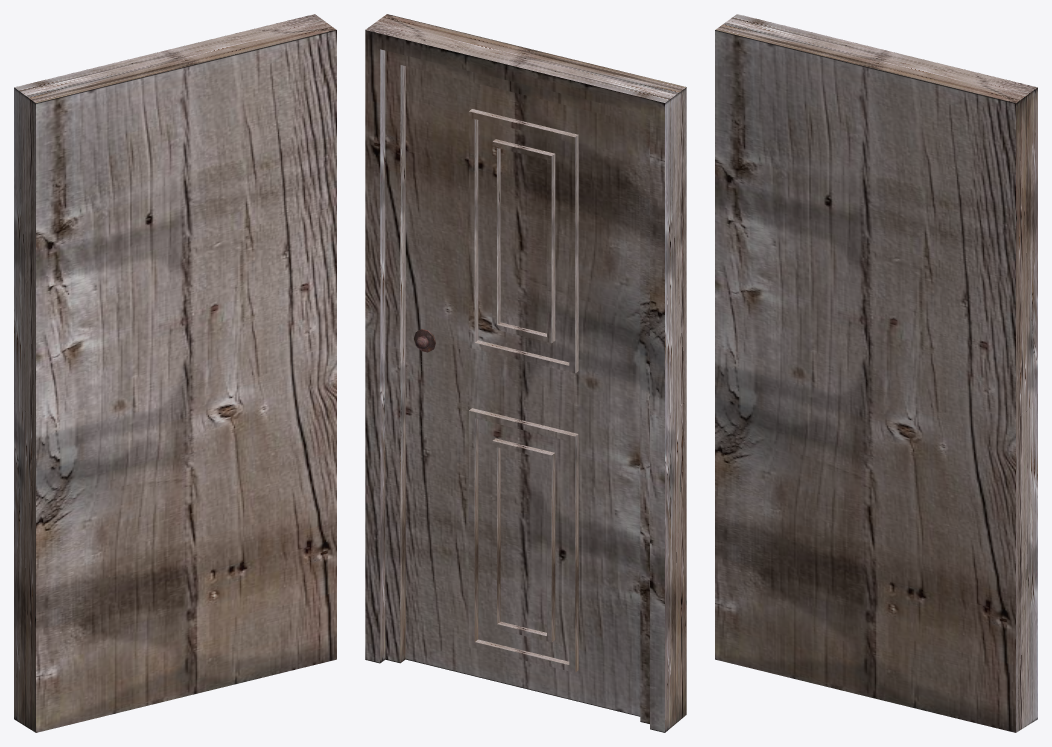
File: puerta_musica.FBX
3 renders of one model, left to right at view 1: azimuth 30°, elevation 25°; view 2: azimuth 150°, elevation 25°; view 3: azimuth 330°, elevation 25°, orthographic.
Visible parts, largest first — view 1: puerta_200cm; view 2: puerta_200cm; view 3: puerta_200cm.
Part boxes in pixels (<box>): puerta_200cm: <box>14,14,336,732</box>; puerta_200cm: <box>365,14,686,732</box>; puerta_200cm: <box>715,14,1037,732</box>.
Size of the model in its own units: 39.37 by 79.04 by 4.96.
